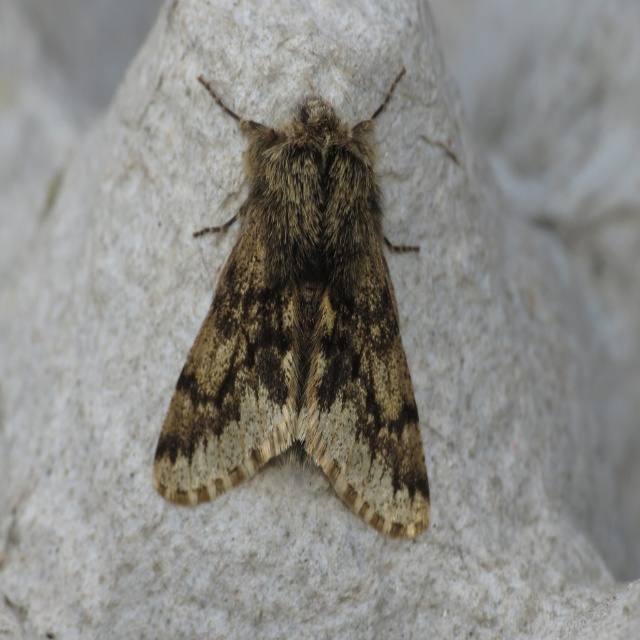Moths and butterflies: (149, 62, 434, 541)
